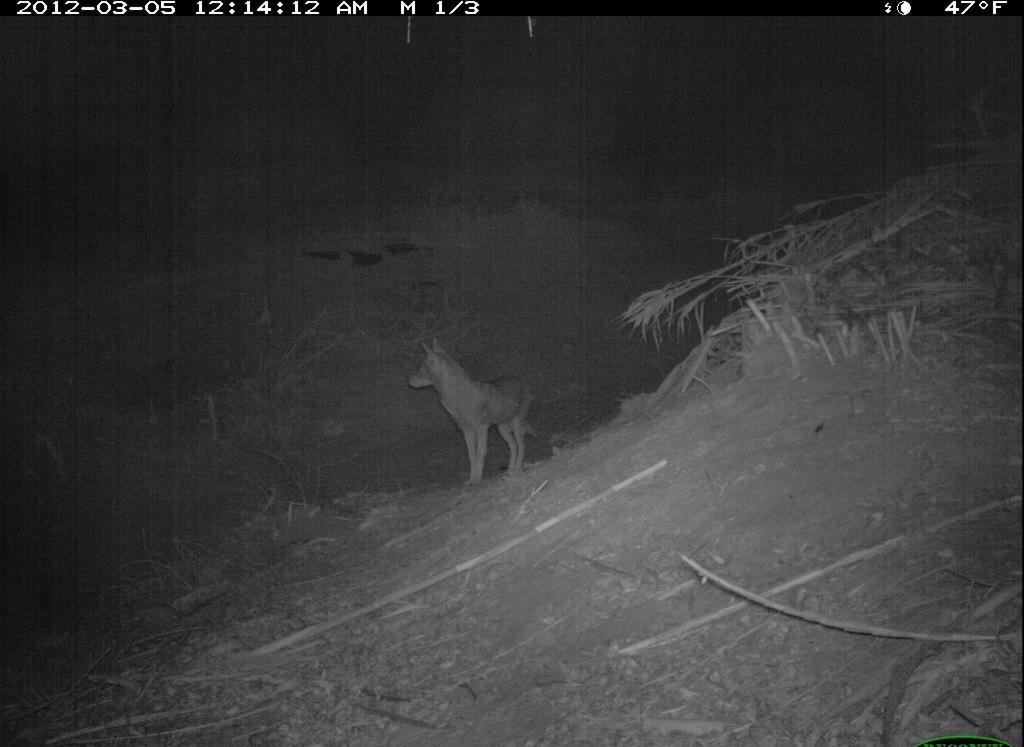coyote: (400, 331, 542, 500)
